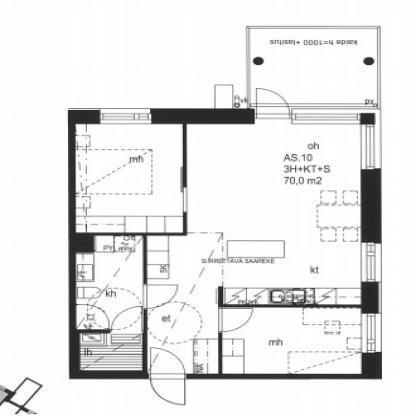door: (148, 346, 191, 410), (249, 83, 299, 129), (143, 372, 199, 410), (215, 303, 259, 337), (144, 345, 190, 377), (137, 282, 183, 304)
window: (95, 101, 159, 129), (356, 122, 388, 174), (286, 108, 364, 128), (356, 239, 388, 285), (357, 311, 389, 357)
